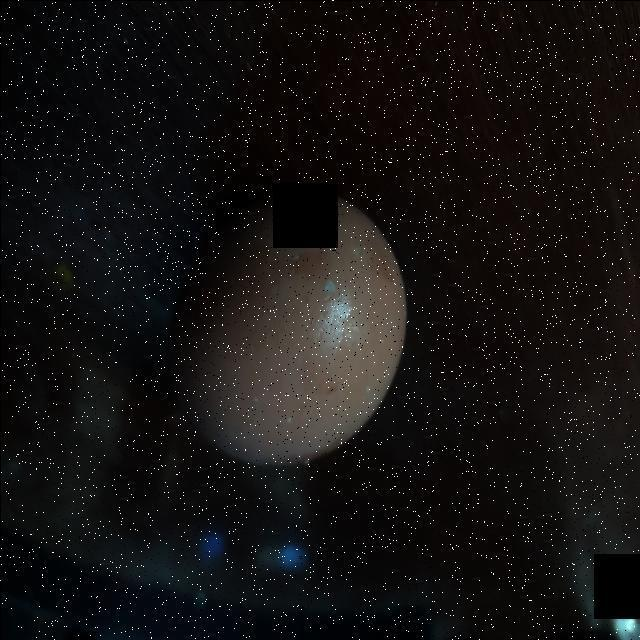egg: (164, 182, 409, 472)
